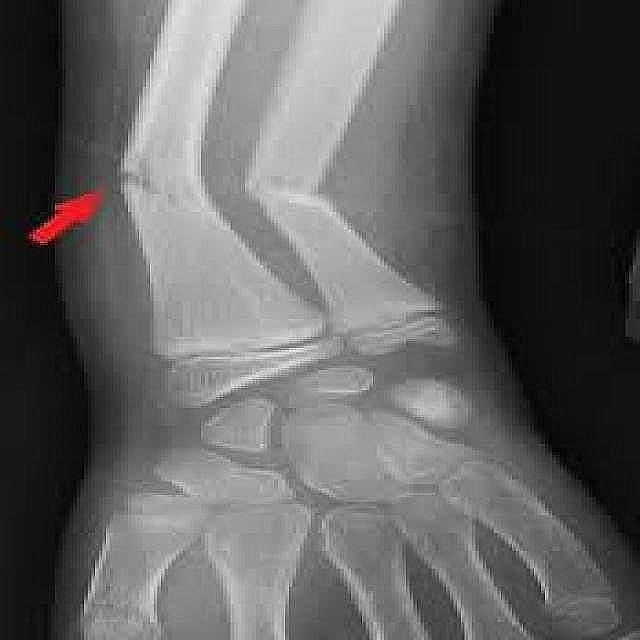bone: (110, 116, 233, 249), (238, 149, 353, 226)
